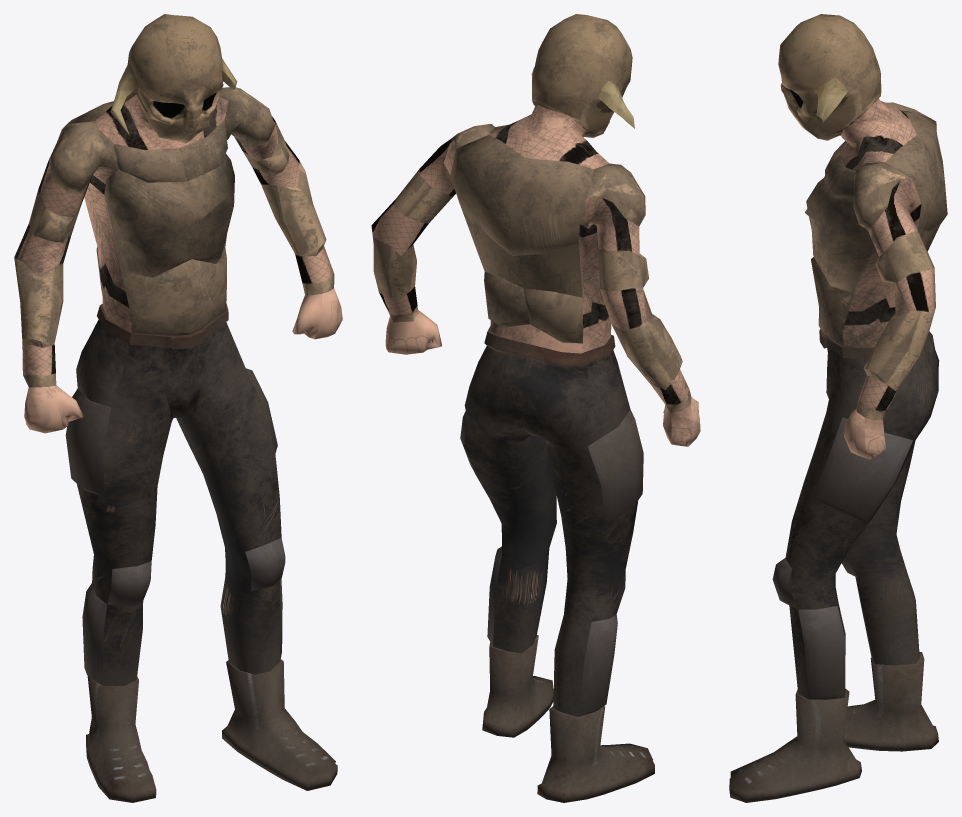
Rendered from Anim_cogerobjeto_npc1.0019.obj.
The picture shows the model from 3 angles, left to right: view 1: azimuth 30°, elevation 25°; view 2: azimuth 150°, elevation 25°; view 3: azimuth 270°, elevation 25°; orthographic projection. The views are drawn at different scales.
Visible parts, largest first — view 1: NPC2; view 2: NPC2; view 3: NPC2.
Boxes of the visible parts, x1,y1,x2,y2 form: NPC2: (14, 14, 342, 802); NPC2: (371, 14, 700, 802); NPC2: (729, 14, 947, 802).
Bounding box in the file's own units: 4.11 × 9.44 × 2.54.
